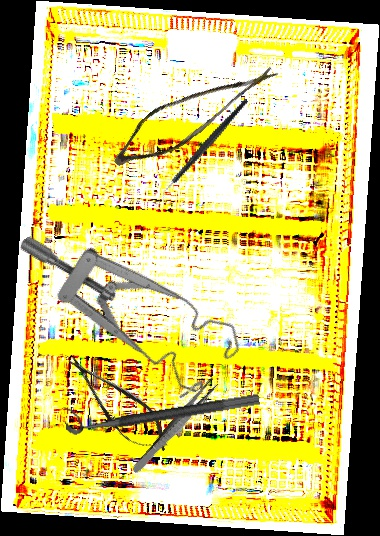Chopper: (137, 98, 272, 204)
Dressing Forceps: (130, 375, 221, 478)
Fixation Ring: (62, 376, 261, 437)
Micro Scissor: (105, 30, 282, 193), (56, 344, 179, 465)
Speculum: (16, 169, 253, 428)
